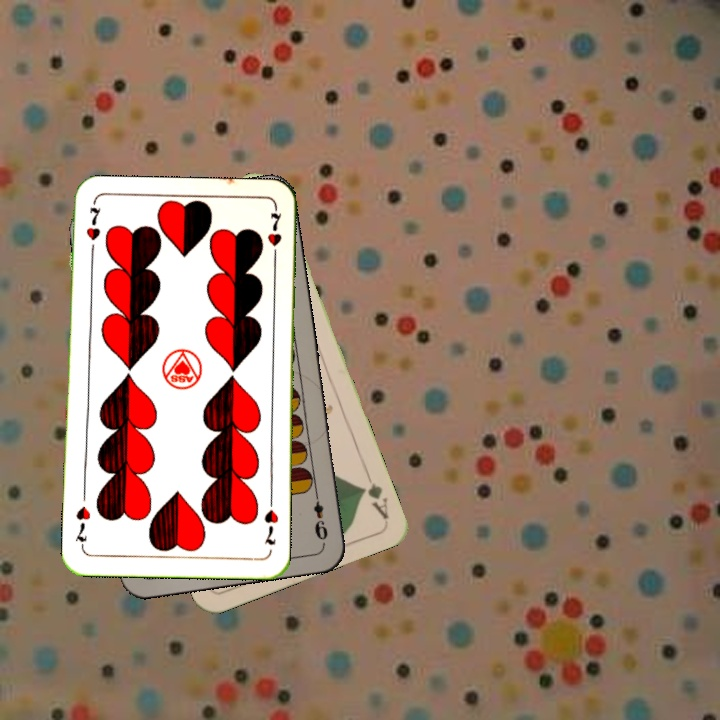E9: (310, 487, 331, 543)
GA: (357, 465, 391, 522)
H7: (82, 204, 102, 260), (260, 494, 281, 547)
